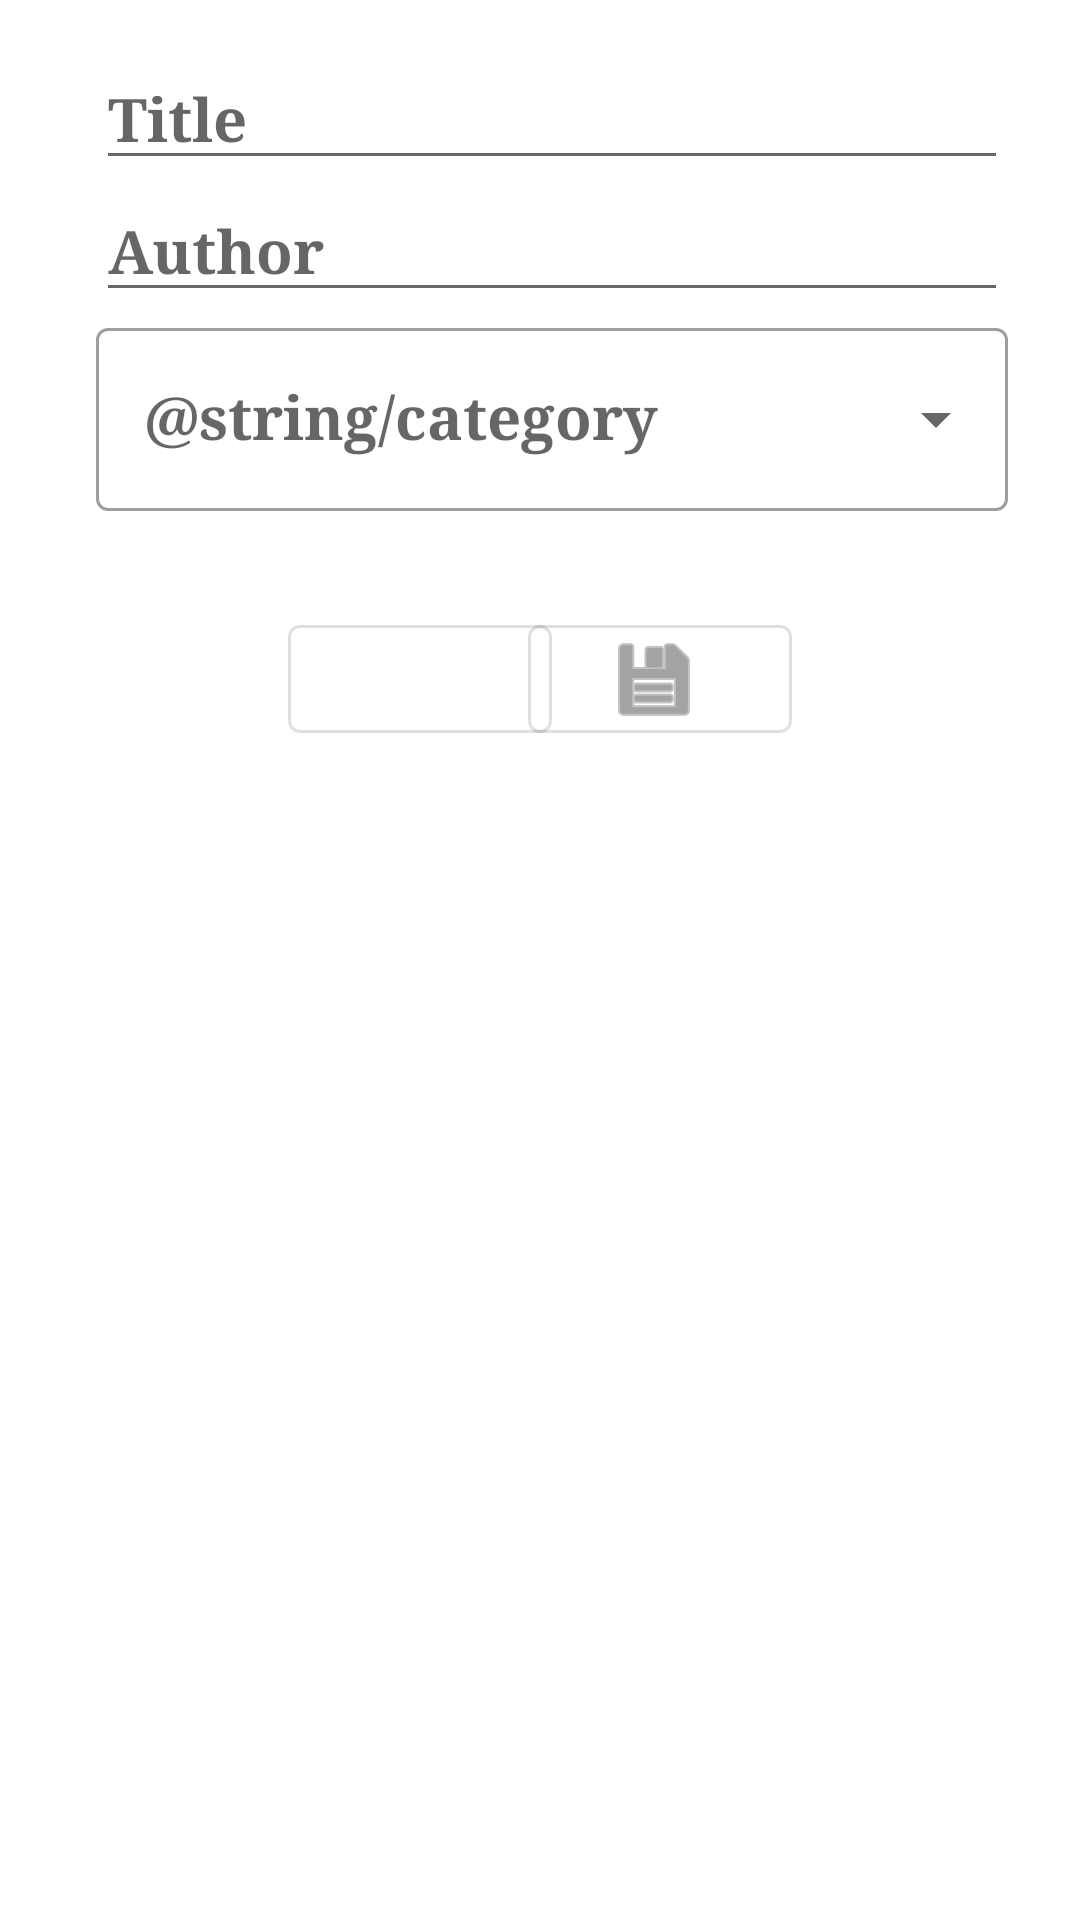

Locate icon controls on the screen. Image size 1080 x 1920, boxes as (x1, y1, x2, y2).
save: (618, 643, 690, 716)
